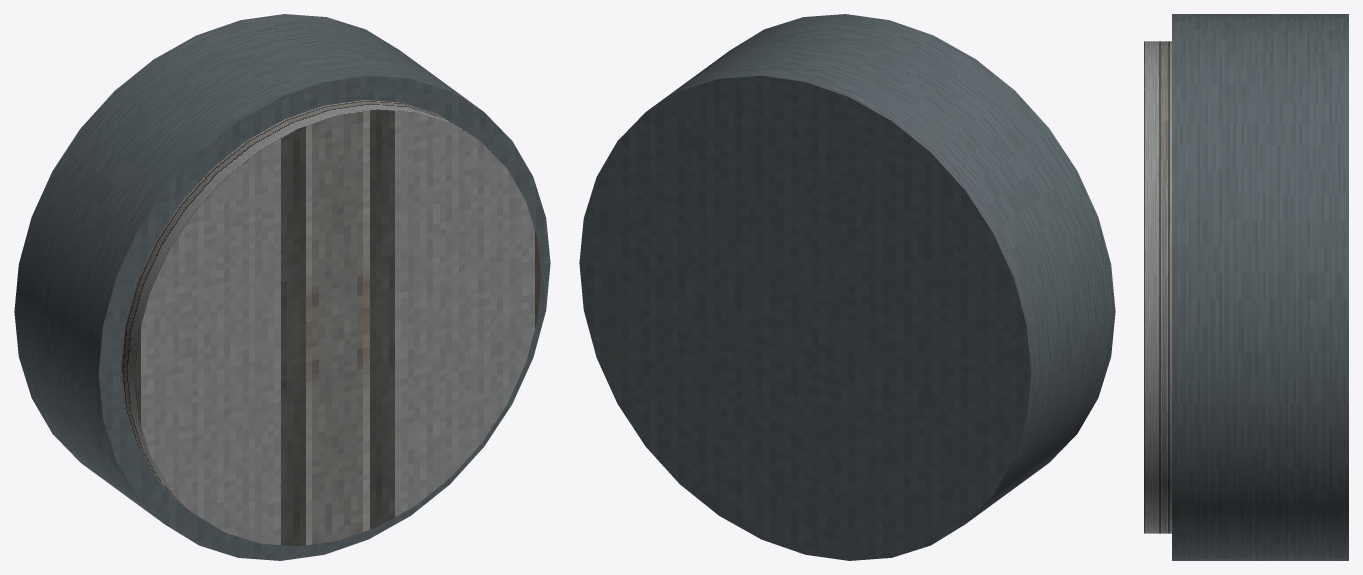
Rendered from shower-head.glb.
3 views of the same model, side by side, from view 1: azimuth 30°, elevation 25°; view 2: azimuth 150°, elevation 25°; view 3: azimuth 270°, elevation 25° (orthographic). The views are drawn at different scales.
Parts seen in each view (by area): view 1: face, rim; view 2: rim; view 3: rim, face.
Boxes of the visible parts, <box> form: face: <box>121,100,541,546</box>; rim: <box>14,14,550,560</box>; rim: <box>579,14,1115,560</box>; rim: <box>1172,14,1348,560</box>; face: <box>1144,41,1171,533</box>.
Bounding box in the file's own units: 0.13 × 0.13 × 0.0486.
Materials: 2 (2 with a texture image).
